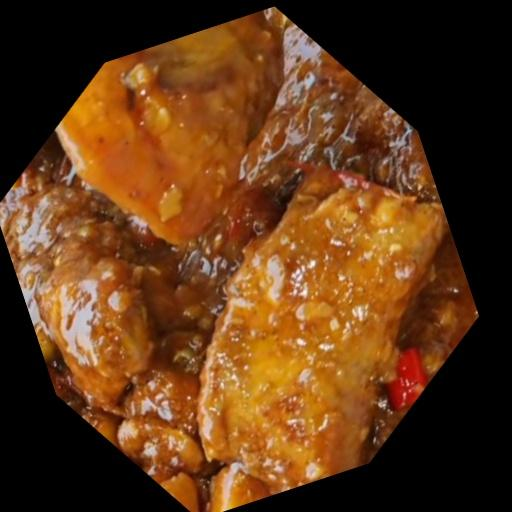pork caldereta: (0, 4, 487, 511)
